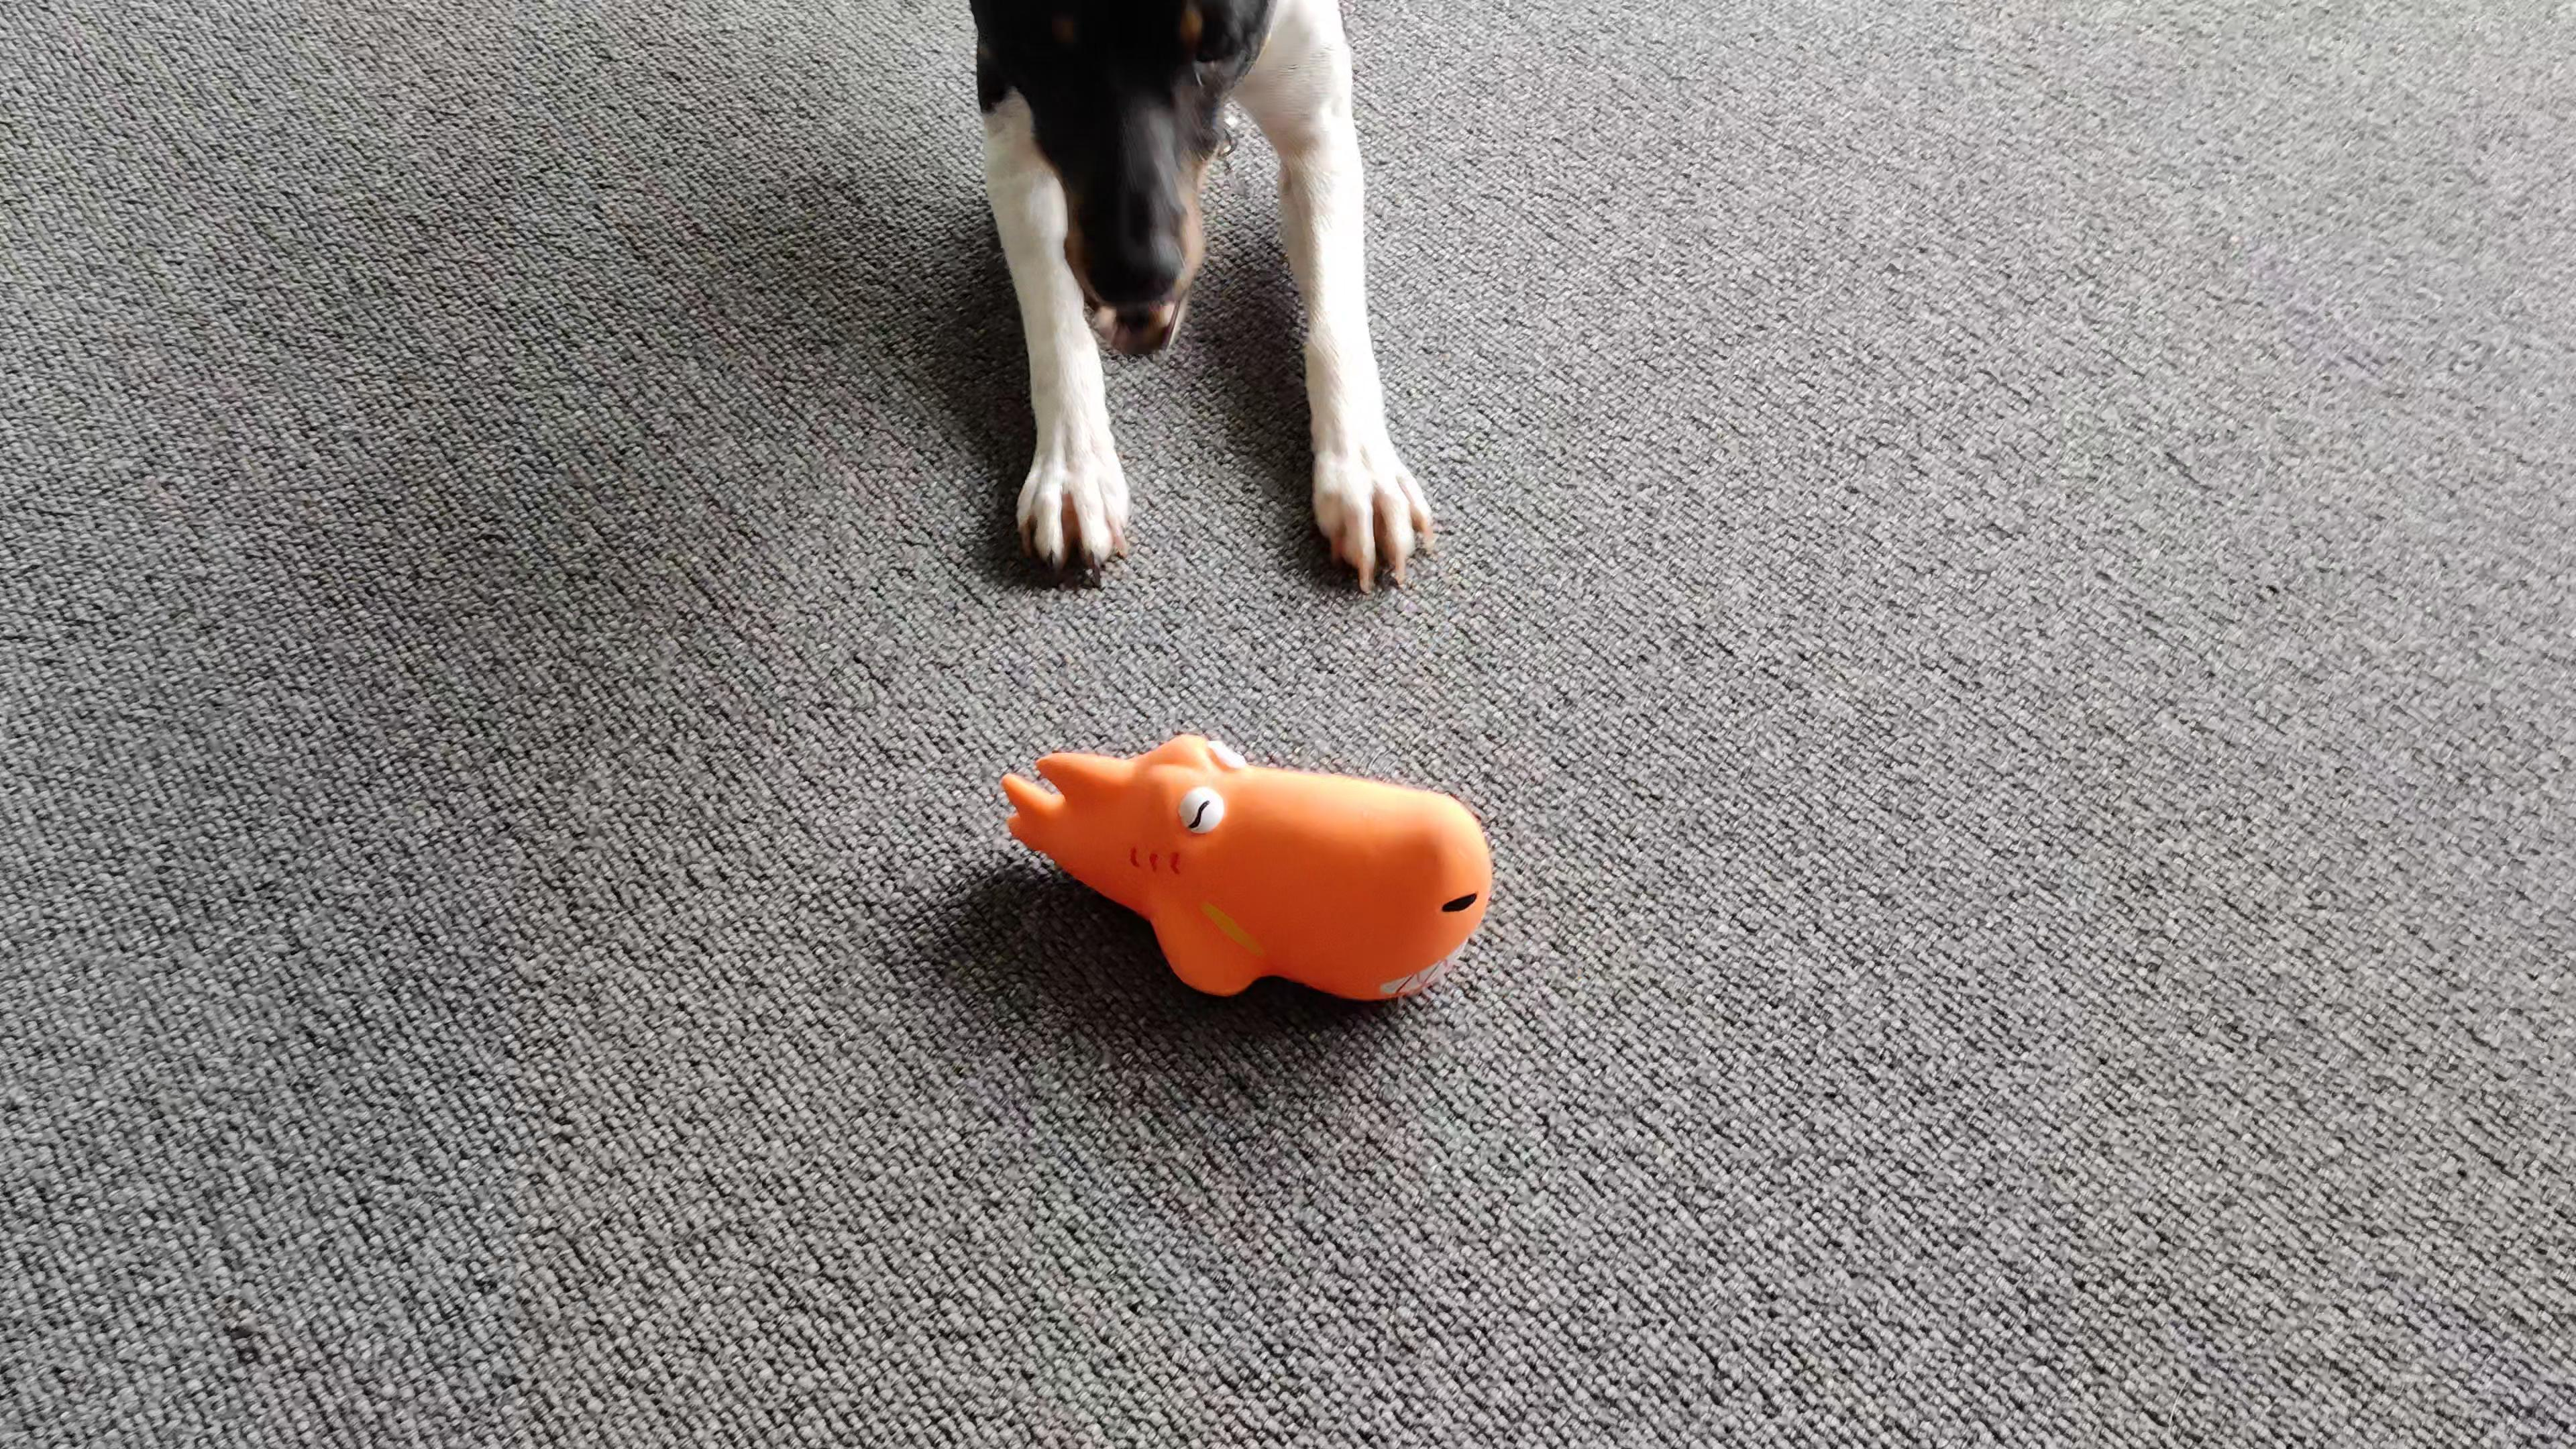Dog: (924, 0, 1472, 610)
